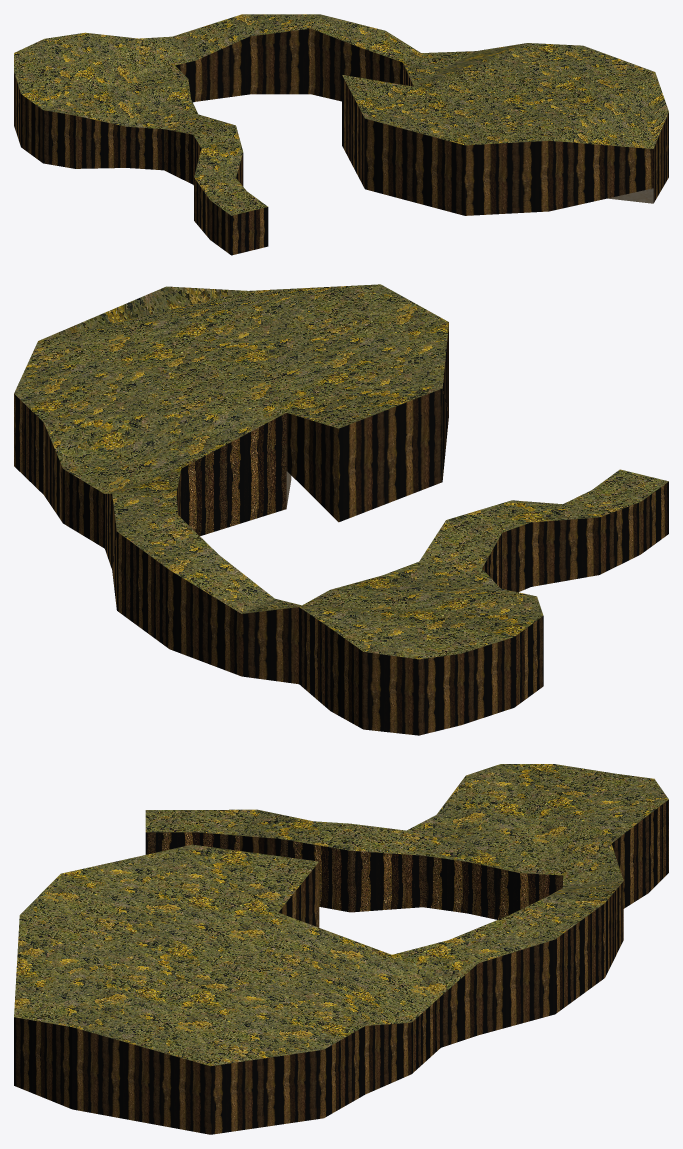
The model's file is forestmap.glb.
3 renders of one model, top to bottom at view 1: azimuth 30°, elevation 25°; view 2: azimuth 150°, elevation 25°; view 3: azimuth 270°, elevation 25°, orthographic. The views are drawn at different scales.
Visible parts, largest first — view 1: Plane; view 2: Plane; view 3: Plane.
Part boxes in pixels (x1,y1,x2,y2): Plane: [14, 14, 668, 255]; Plane: [14, 284, 668, 735]; Plane: [14, 764, 668, 1134].
Size of the model in its own units: 194 by 32.11 by 176.
Materials: 4 (4 with a texture image).
